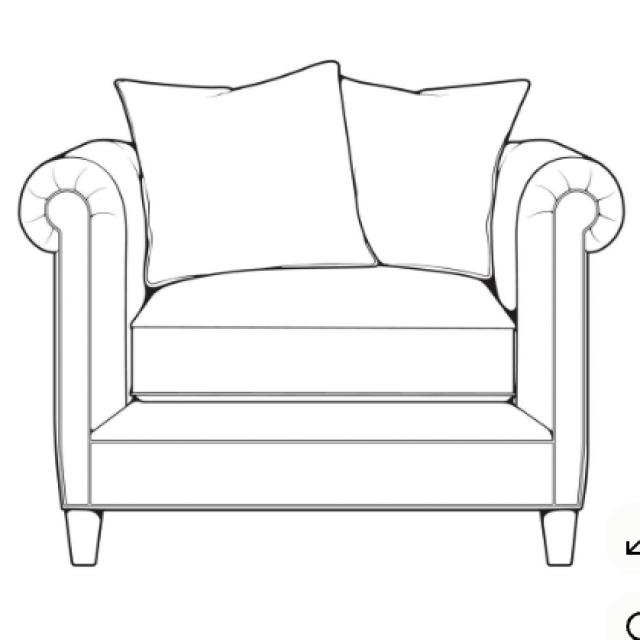Backrest: (109, 55, 538, 295)
Leg_Structure: (62, 501, 580, 572)
Seat: (127, 265, 515, 402)
sofa_armrest: (492, 135, 630, 510), (18, 138, 148, 507)
